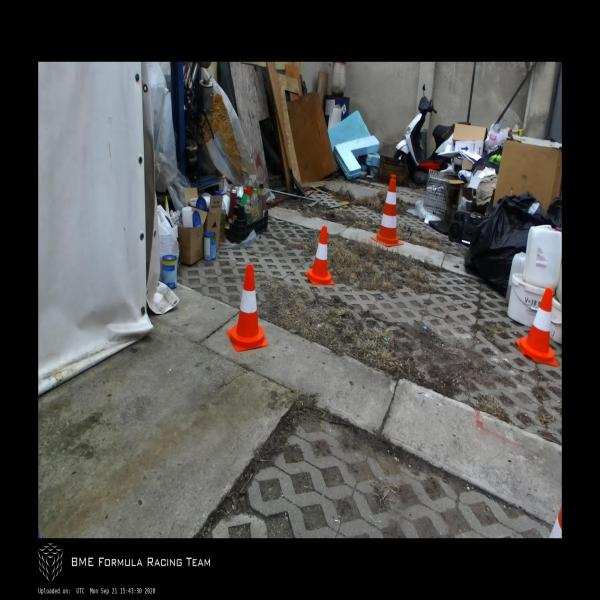large_orange_cone: (371, 174, 404, 247)
orange_cone: (227, 264, 268, 352), (515, 288, 559, 367), (304, 226, 334, 285)
